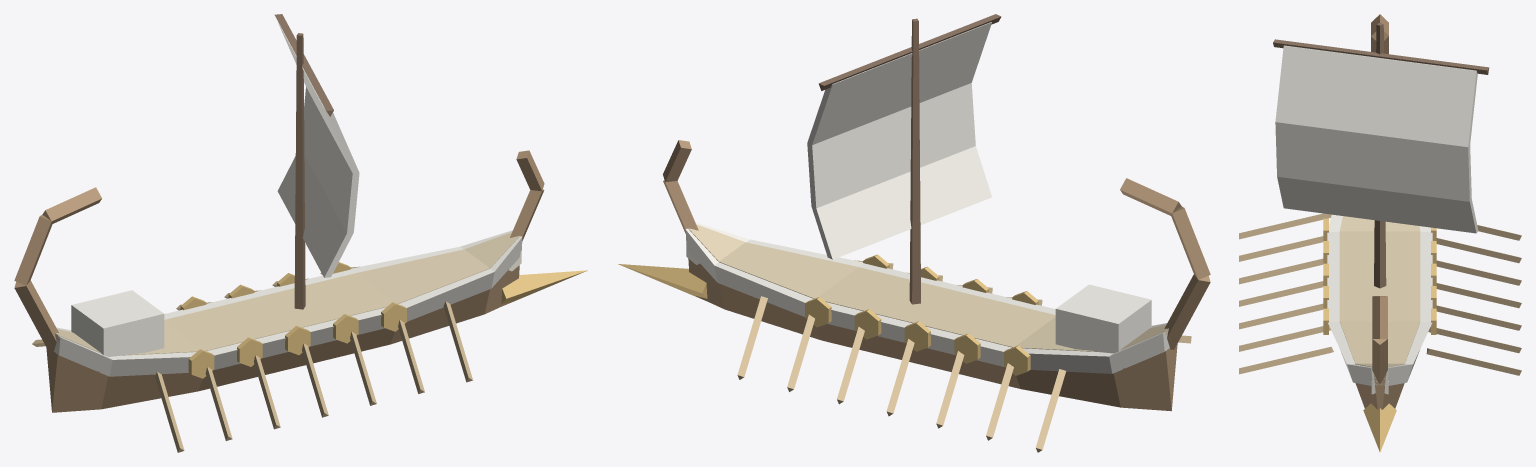
File: fleet.glb
3 renders of one model, left to right at view 1: azimuth 30°, elevation 25°; view 2: azimuth 150°, elevation 25°; view 3: azimuth 270°, elevation 25°, orthographic. The views are drawn at different scales.
Parts seen in each view (by area): view 1: ancient_fleet; view 2: ancient_fleet; view 3: ancient_fleet.
Part boxes in pixels (box(x1,y1,x2,y2)): ancient_fleet: box(14, 14, 587, 452); ancient_fleet: box(618, 14, 1210, 452); ancient_fleet: box(1239, 14, 1521, 452).
Bounding box in the file's own units: 0.9995 × 0.5356 × 0.4447.
